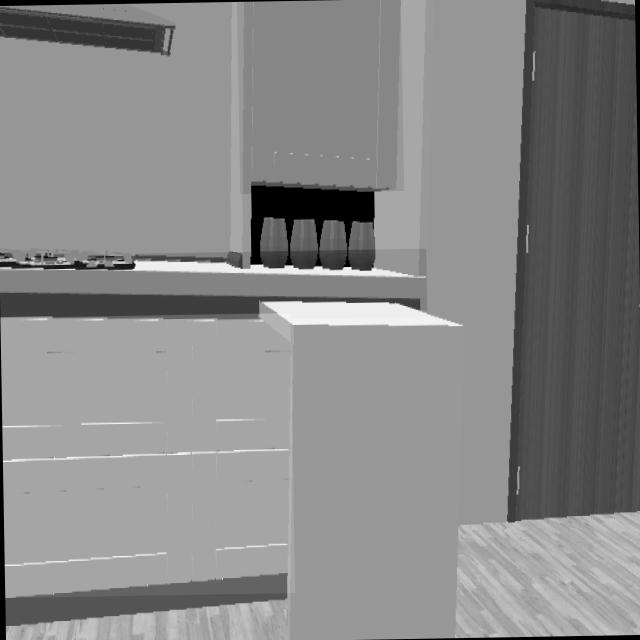cabinet: (0, 318, 291, 598), (236, 0, 400, 191)
countertop: (0, 252, 426, 319)
stove: (0, 248, 134, 269)
